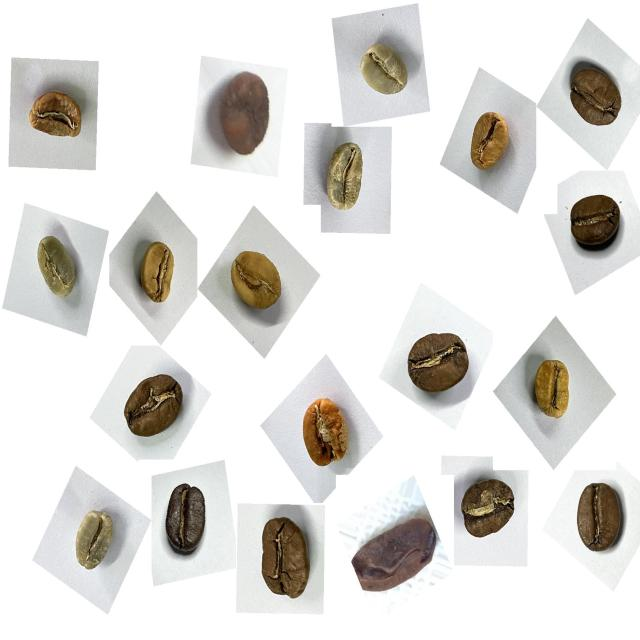bad: (349, 506, 438, 608), (210, 65, 281, 156)
dark: (155, 469, 223, 566)
green: (221, 235, 296, 326), (311, 134, 381, 224), (61, 498, 128, 582), (348, 33, 418, 111), (24, 228, 87, 312)
light: (292, 386, 364, 478), (519, 343, 589, 430), (458, 99, 524, 186), (20, 77, 91, 155), (126, 229, 187, 318)
medium: (245, 509, 324, 617), (399, 315, 480, 409), (113, 363, 192, 451), (564, 478, 636, 565), (562, 57, 632, 141), (453, 470, 525, 549), (562, 181, 630, 261)
